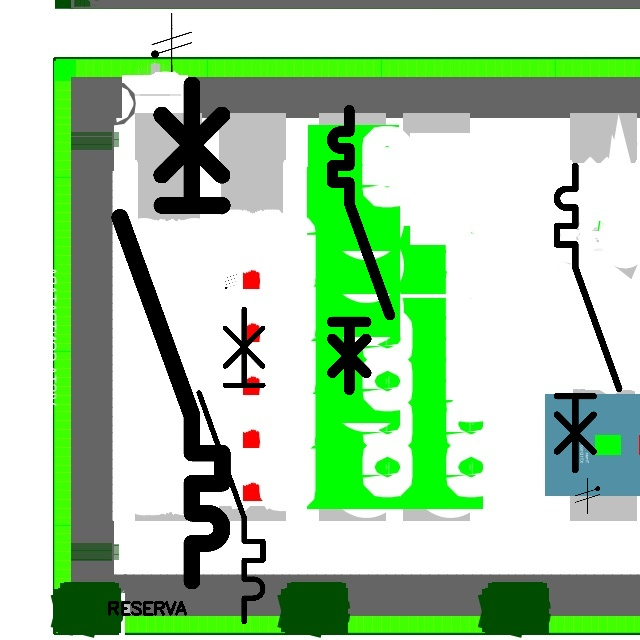interruptor_termomagnetico: (107, 72, 235, 594), (191, 301, 271, 629), (549, 158, 627, 478), (325, 103, 397, 397)
